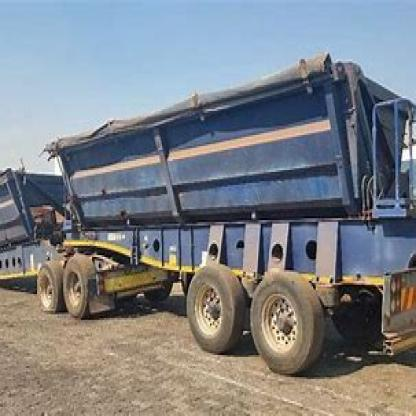dump_truck: (0, 44, 415, 366)
